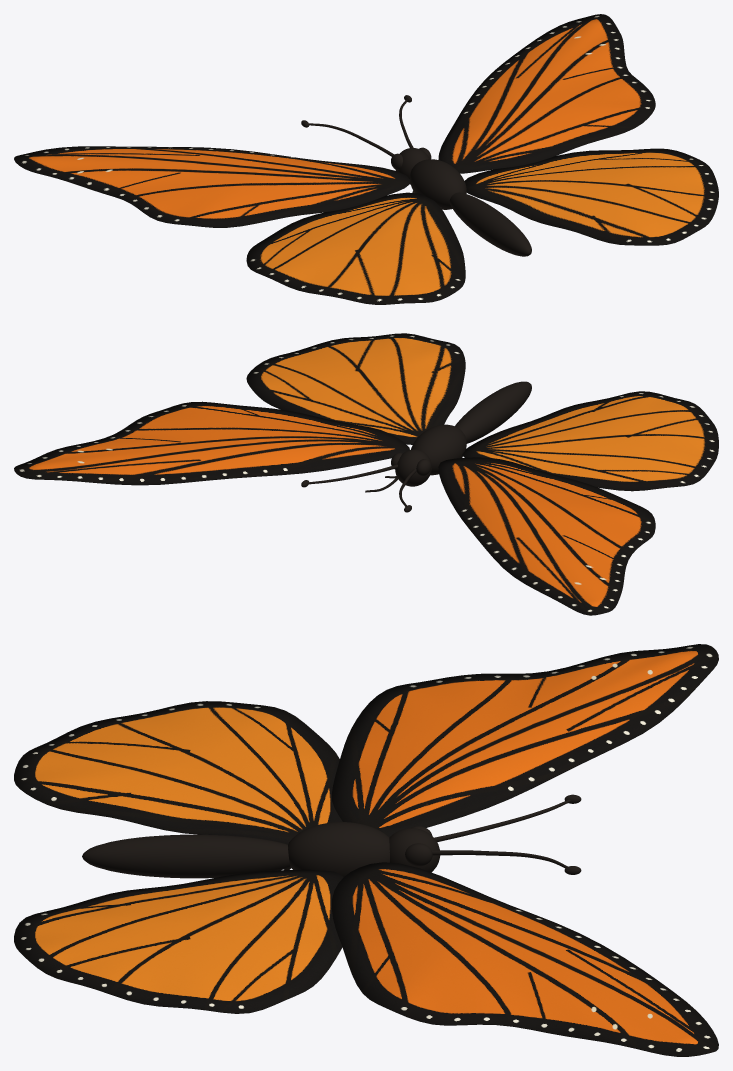
The model's file is mariposa_monarca.gltf.
3 renders of one model, top to bottom at view 1: azimuth 30°, elevation 25°; view 2: azimuth 150°, elevation 25°; view 3: azimuth 270°, elevation 25°, orthographic. The views are drawn at different scales.
Parts seen in each view (by area): view 1: ala superior izquierda, ala superior derecha, ala inferior derecha, ala inferior izquierda, abdomen, torax, cabeza; view 2: ala superior derecha, ala superior izquierda, ala inferior izquierda, ala inferior derecha, abdomen, torax, cabeza; view 3: ala superior derecha, ala superior izquierda, ala inferior derecha, ala inferior izquierda, abdomen, torax, cabeza, antena, antena.001.
Part boxes in pixels (left/top/right/bottom): ala superior izquierda: left=14, top=146, right=410, bottom=227; ala superior derecha: left=438, top=14, right=655, bottom=173; ala inferior derecha: left=464, top=148, right=718, bottom=245; ala inferior izquierda: left=246, top=192, right=465, bottom=304; abdomen: left=449, top=192, right=531, bottom=256; torax: left=409, top=159, right=466, bottom=209; cabeza: left=396, top=148, right=429, bottom=184; ala superior derecha: left=14, top=401, right=409, bottom=485; ala superior izquierda: left=438, top=457, right=655, bottom=615; ala inferior izquierda: left=462, top=391, right=718, bottom=491; ala inferior derecha: left=246, top=333, right=465, bottom=444; abdomen: left=455, top=381, right=531, bottom=443; torax: left=411, top=424, right=466, bottom=475; cabeza: left=395, top=449, right=431, bottom=486; ala superior derecha: left=331, top=862, right=718, bottom=1056; ala superior izquierda: left=332, top=644, right=718, bottom=837; ala inferior derecha: left=14, top=869, right=343, bottom=1013; ala inferior izquierda: left=14, top=701, right=342, bottom=844; abdomen: left=82, top=834, right=290, bottom=878; torax: left=288, top=822, right=389, bottom=876; cabeza: left=389, top=828, right=440, bottom=872; antena: left=434, top=799, right=570, bottom=842; antena.001: left=432, top=850, right=567, bottom=868.
Size of the model in its own units: 0.1386 by 0.0142 by 0.1005.
2 materials, 1 textured.
